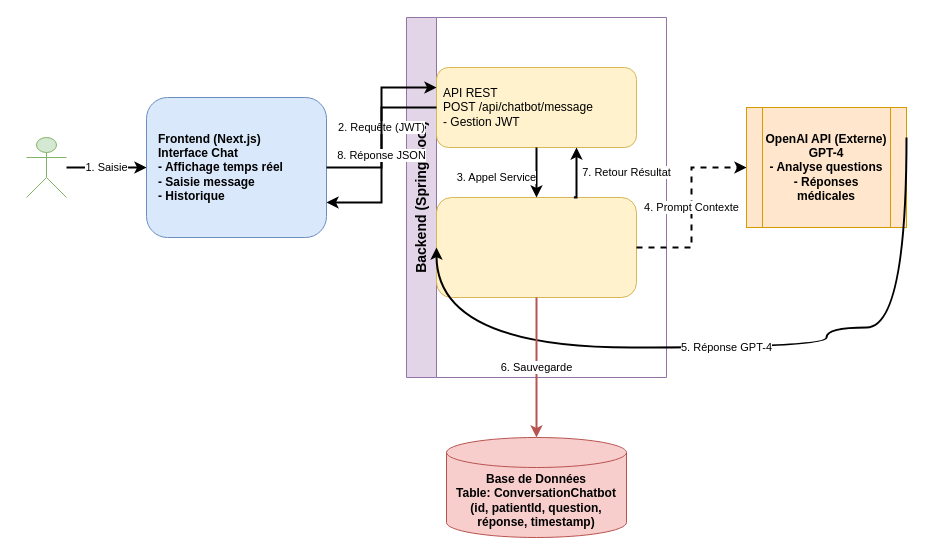
Image size: 925x555. Some labels were removed from this diagram. The centre of each missing label's shape, as x and y in pixels:
"OpenAI Service (Java) - Formatage requête - Appel API Externe - Gestion erreurs" goes at [536,247].
"Utilisateur" goes at [46,167].
